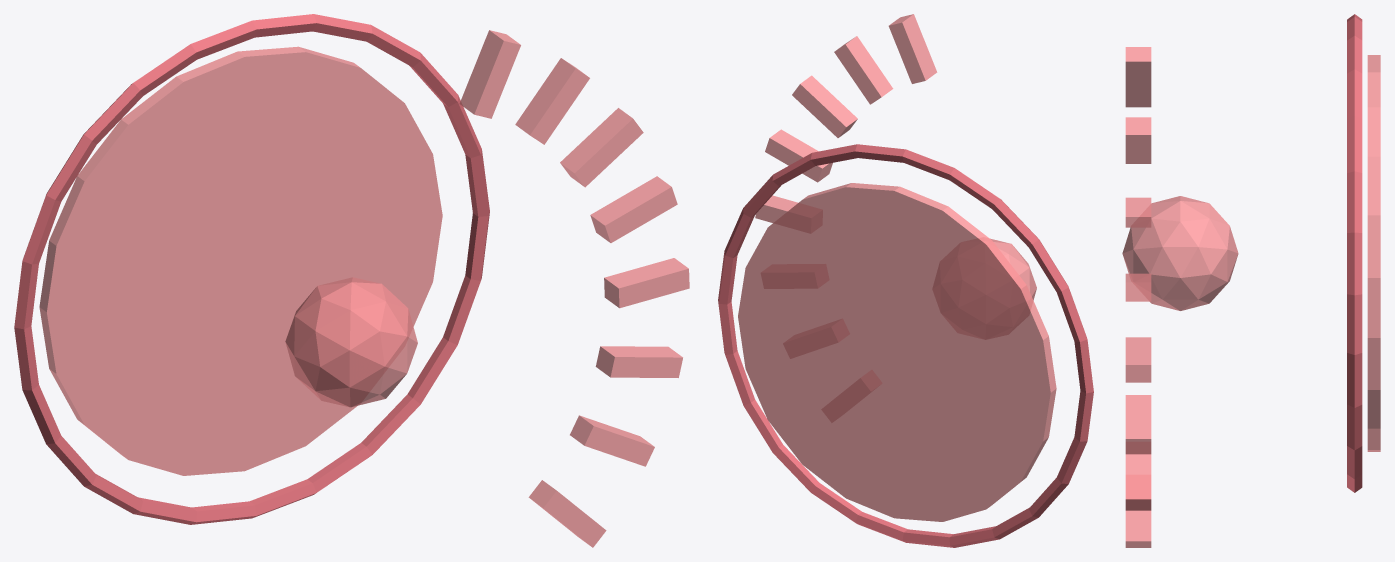
The model's file is 01_class_special_attack_vfx.glb.
3 renders of one model, left to right at view 1: azimuth 30°, elevation 25°; view 2: azimuth 150°, elevation 25°; view 3: azimuth 270°, elevation 25°, orthographic. The views are drawn at different scales.
Visible parts, largest first — view 1: ability_cast_disc, ability_outer_ring, class_energy_core, attack_flow_arc_seg_7, attack_flow_arc_seg_5, attack_flow_arc_seg_6, attack_flow_arc_seg_4, attack_flow_arc_seg_3, attack_flow_arc_seg_2, attack_flow_arc_seg_1, attack_flow_arc_seg_0; view 2: ability_cast_disc, ability_outer_ring, attack_flow_arc_seg_7, attack_flow_arc_seg_5, attack_flow_arc_seg_6, attack_flow_arc_seg_4, class_energy_core, attack_flow_arc_seg_3; view 3: class_energy_core, ability_outer_ring, ability_cast_disc, attack_flow_arc_seg_7, attack_flow_arc_seg_2, attack_flow_arc_seg_1, attack_flow_arc_seg_6, attack_flow_arc_seg_3, attack_flow_arc_seg_0, attack_flow_arc_seg_5, attack_flow_arc_seg_4.
Part boxes in pixels (x1=…): ability_cast_disc: x1=39, y1=46, x2=442, y2=475; ability_outer_ring: x1=14, y1=14, x2=489, y2=524; class_energy_core: x1=285, y1=277, x2=417, y2=407; attack_flow_arc_seg_7: x1=459, y1=30, x2=520, y2=118; attack_flow_arc_seg_5: x1=560, y1=108, x2=643, y2=187; attack_flow_arc_seg_6: x1=515, y1=58, x2=589, y2=144; attack_flow_arc_seg_4: x1=590, y1=176, x2=677, y2=242; attack_flow_arc_seg_3: x1=604, y1=258, x2=689, y2=308; attack_flow_arc_seg_2: x1=595, y1=346, x2=682, y2=377; attack_flow_arc_seg_1: x1=570, y1=415, x2=654, y2=466; attack_flow_arc_seg_0: x1=528, y1=480, x2=606, y2=547; ability_cast_disc: x1=738, y1=183, x2=1056, y2=521; ability_outer_ring: x1=718, y1=144, x2=1093, y2=547; attack_flow_arc_seg_7: x1=888, y1=14, x2=937, y2=83; attack_flow_arc_seg_5: x1=792, y1=75, x2=857, y2=137; attack_flow_arc_seg_6: x1=834, y1=36, x2=893, y2=104; attack_flow_arc_seg_4: x1=765, y1=129, x2=832, y2=182; class_energy_core: x1=990, y1=238, x2=1036, y2=300; attack_flow_arc_seg_3: x1=755, y1=195, x2=798, y2=222; class_energy_core: x1=1122, y1=196, x2=1238, y2=310; ability_outer_ring: x1=1347, y1=14, x2=1362, y2=492; ability_cast_disc: x1=1367, y1=55, x2=1380, y2=451; attack_flow_arc_seg_7: x1=1125, y1=47, x2=1151, y2=107; attack_flow_arc_seg_2: x1=1125, y1=395, x2=1151, y2=454; attack_flow_arc_seg_1: x1=1125, y1=454, x2=1151, y2=510; attack_flow_arc_seg_6: x1=1125, y1=117, x2=1151, y2=163; attack_flow_arc_seg_3: x1=1125, y1=337, x2=1151, y2=382; attack_flow_arc_seg_0: x1=1125, y1=510, x2=1151, y2=547; attack_flow_arc_seg_5: x1=1125, y1=197, x2=1151, y2=227; attack_flow_arc_seg_4: x1=1125, y1=273, x2=1151, y2=301.
Size of the model in its own units: 1.71 by 1.63 by 0.8.
